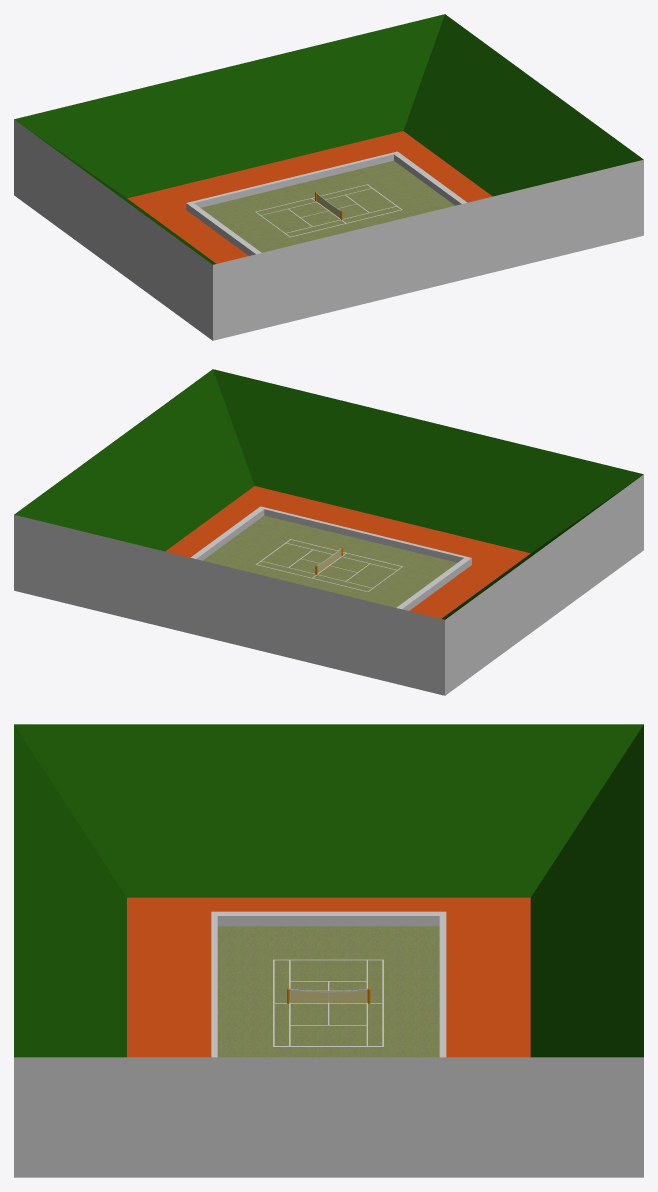
Rendered from tennis1.fbx.
3 renders of one model, top to bottom at view 1: azimuth 30°, elevation 25°; view 2: azimuth 150°, elevation 25°; view 3: azimuth 270°, elevation 25°, orthographic. The views are drawn at different scales.
Visible parts, largest first — view 1: Cube; view 2: Cube; view 3: Cube, Cube.001.
Boxes of the visible parts, left/top/right/bottom form: Cube: left=14, top=14, right=643, bottom=340; Cube: left=14, top=369, right=643, bottom=695; Cube: left=14, top=724, right=643, bottom=1177; Cube.001: left=287, top=987, right=370, bottom=1003.
Bounding box in the file's own units: 3517 × 592 × 2810.
6 materials, 1 textured.
